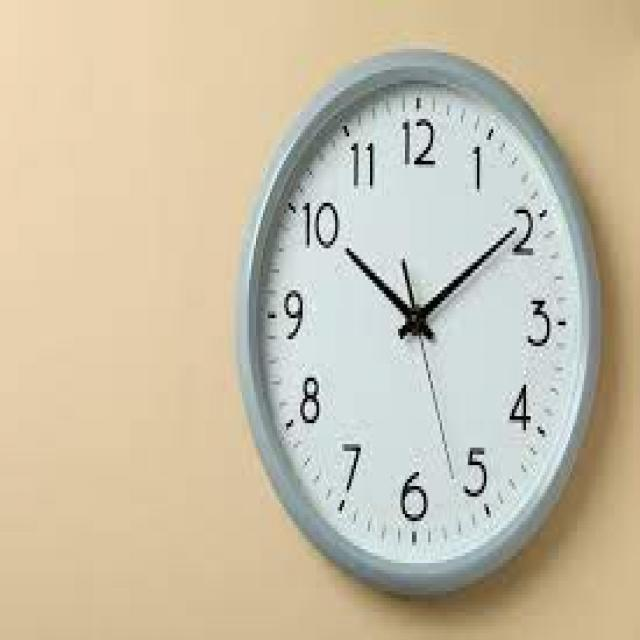Clocks-images: (236, 54, 599, 595)
